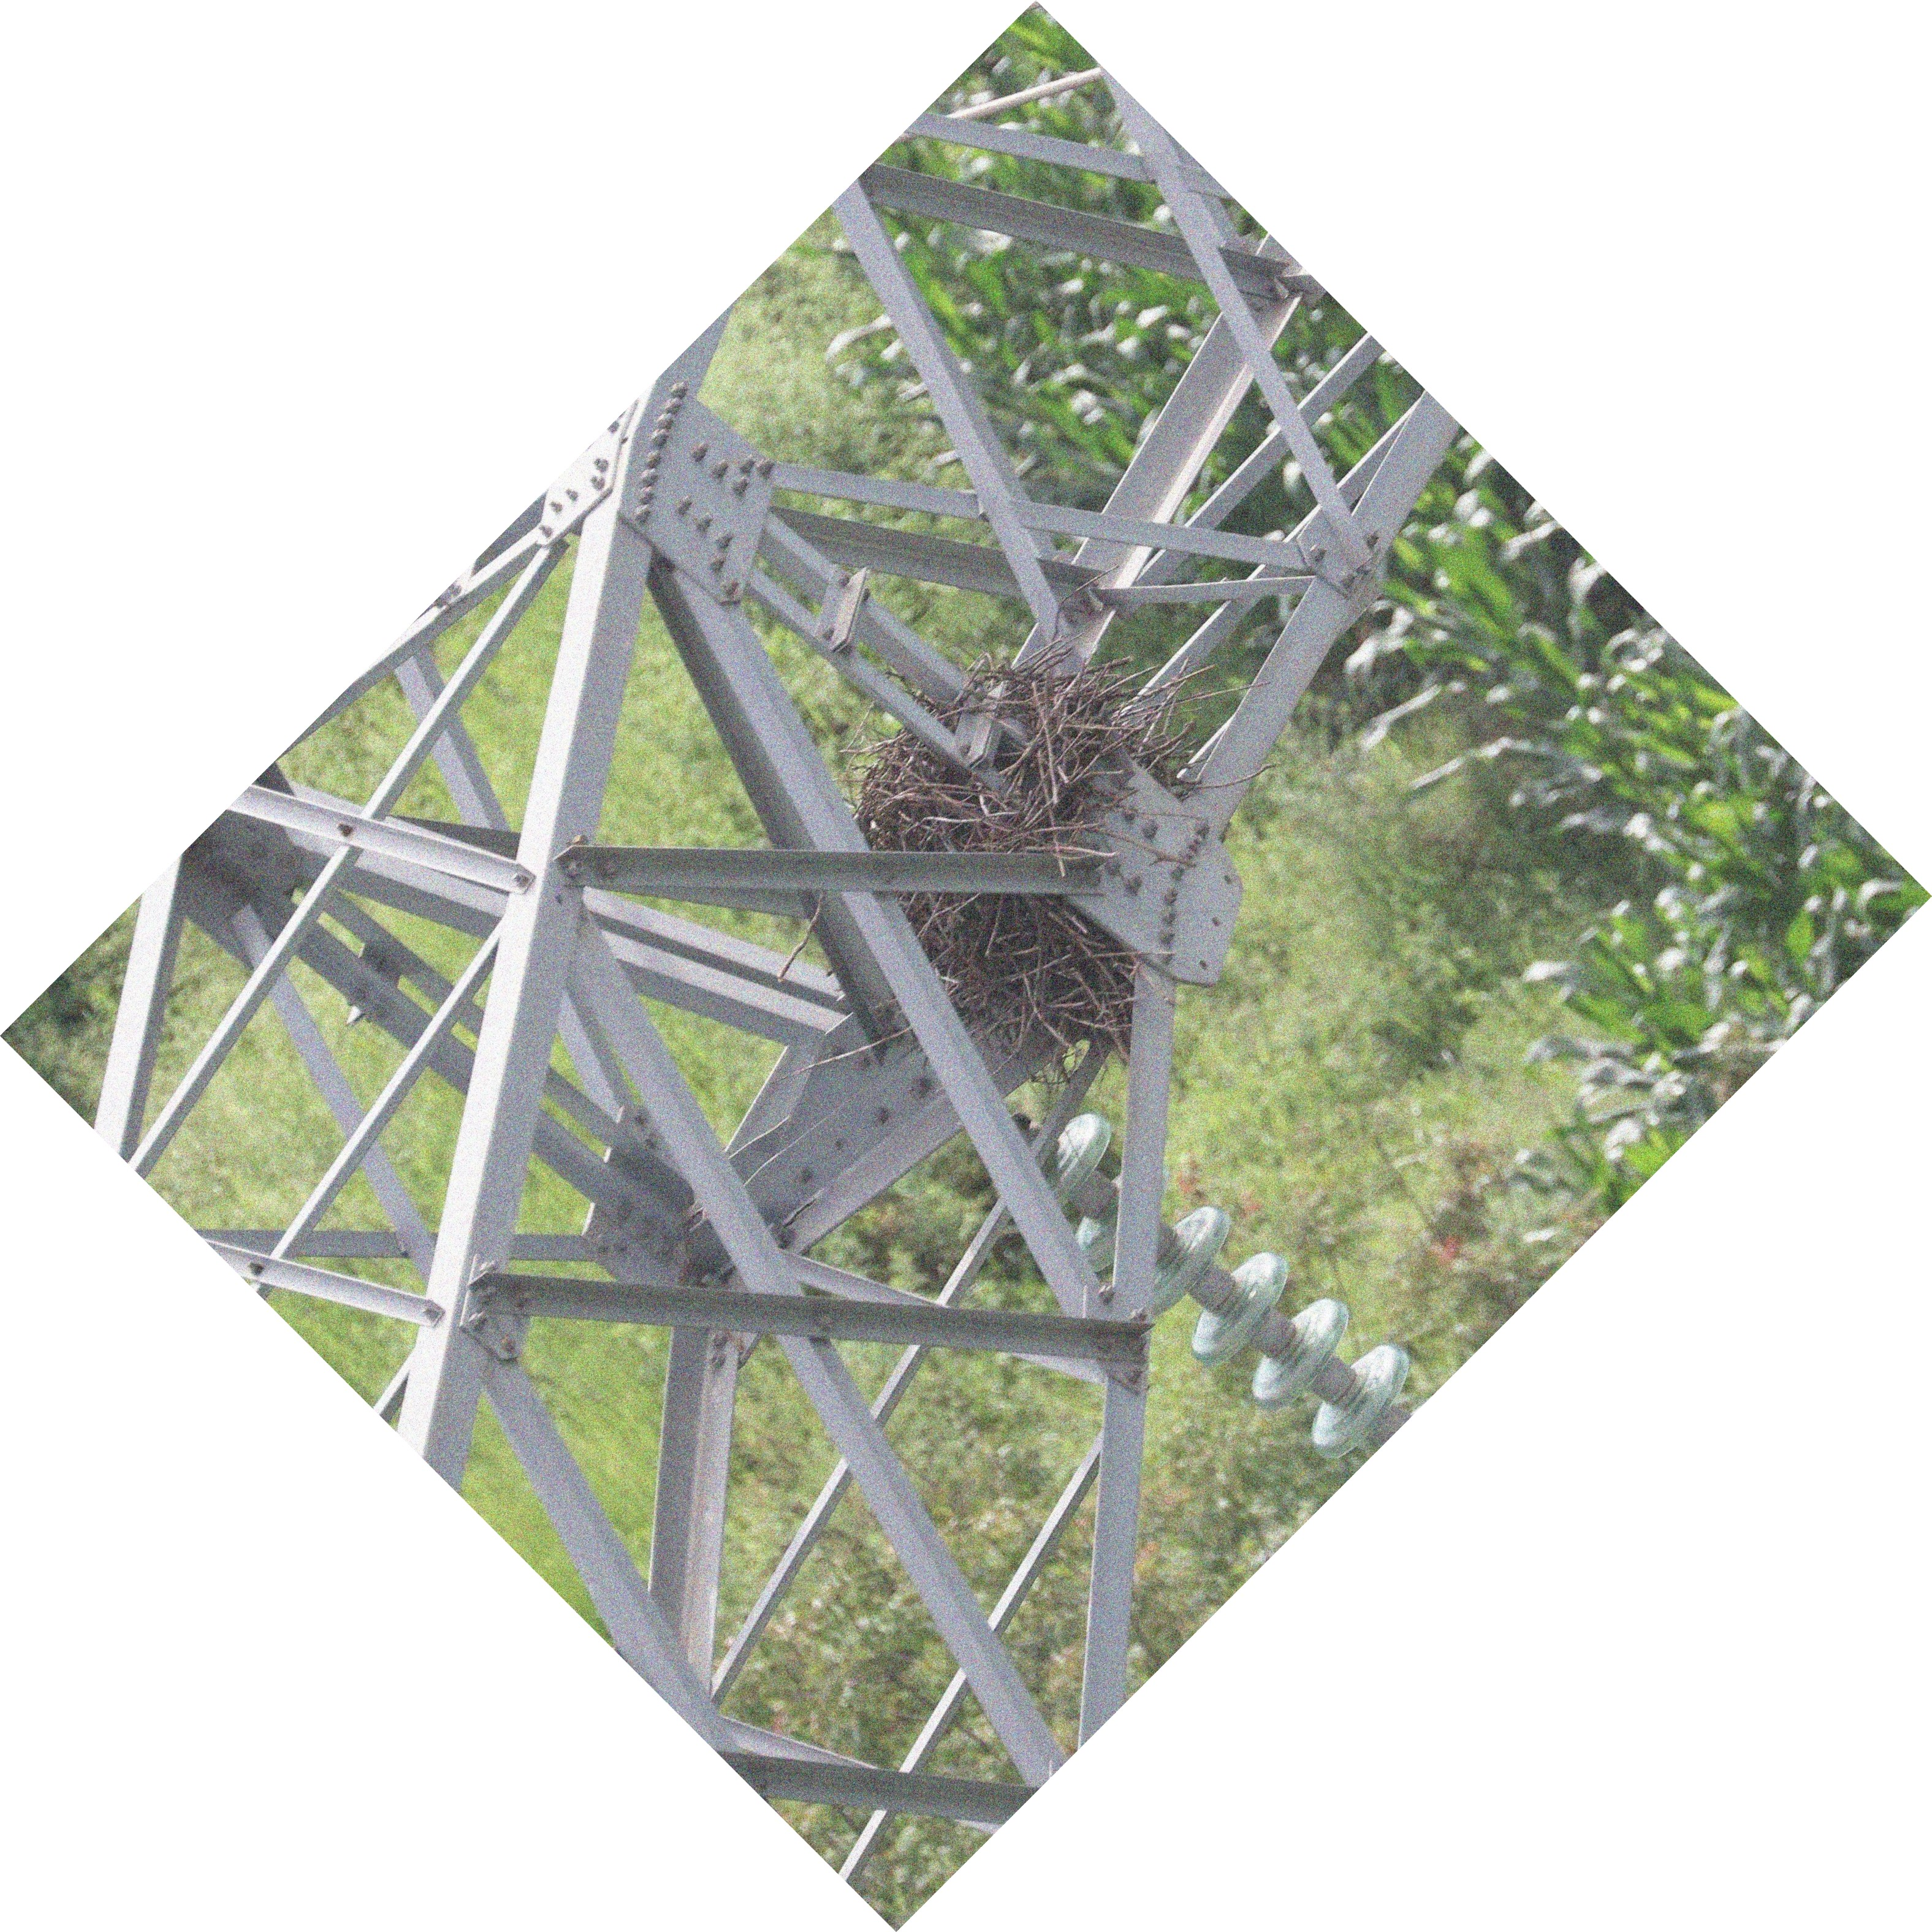niaowo: (828, 655, 1205, 1065)
